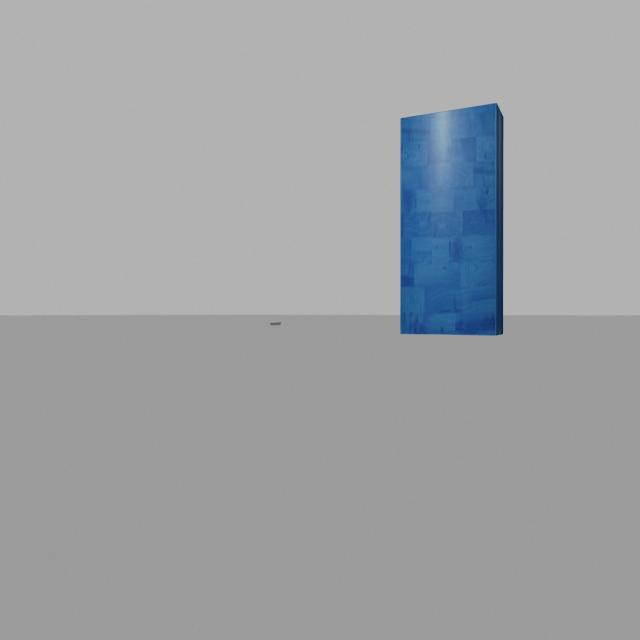bowl: (266, 312, 286, 334)
shelf: (392, 98, 514, 352)
